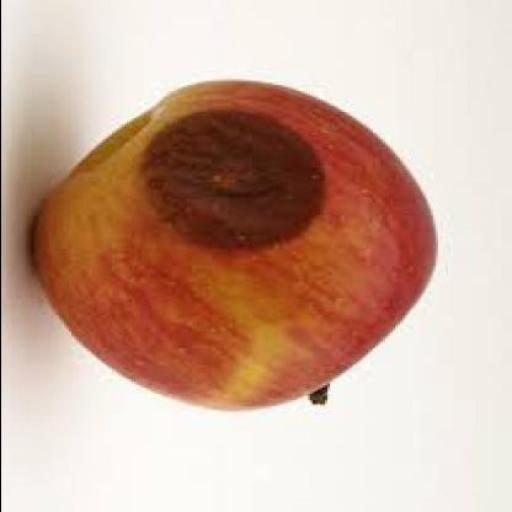biodegradable: (28, 77, 438, 410)
